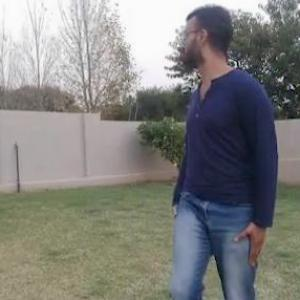follow: (165, 2, 277, 299)
